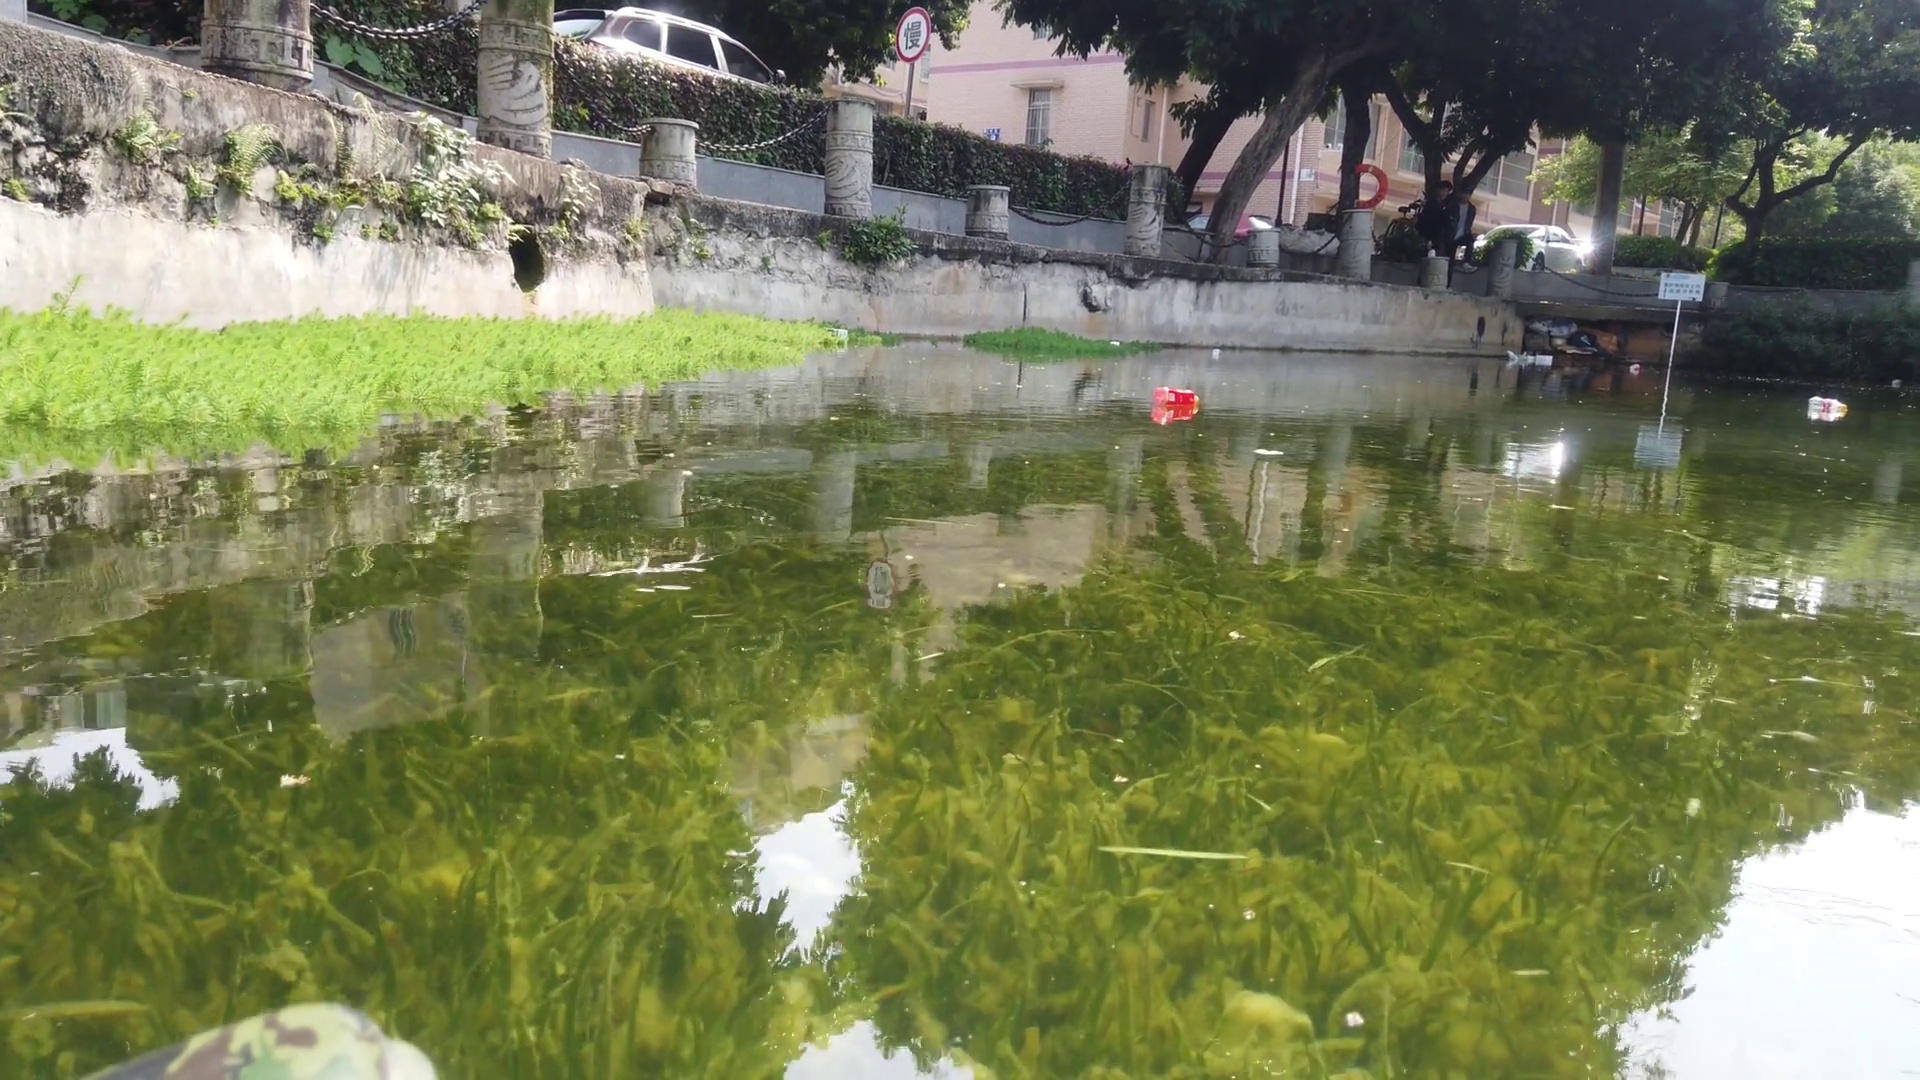bottle: (1154, 384, 1205, 406), (1807, 394, 1849, 415), (1208, 344, 1224, 356), (1629, 357, 1642, 371), (1891, 375, 1903, 388)
carton: (828, 323, 856, 343), (1534, 353, 1553, 361), (1108, 338, 1120, 348)
plastic: (1505, 349, 1535, 364)
